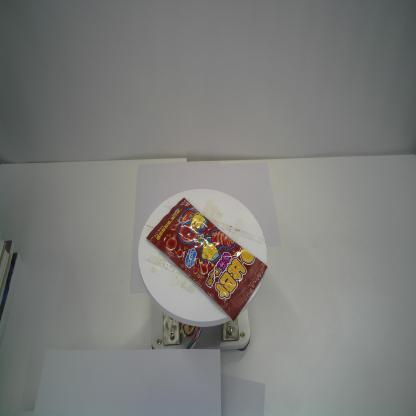Candy: (146, 198, 268, 322)
